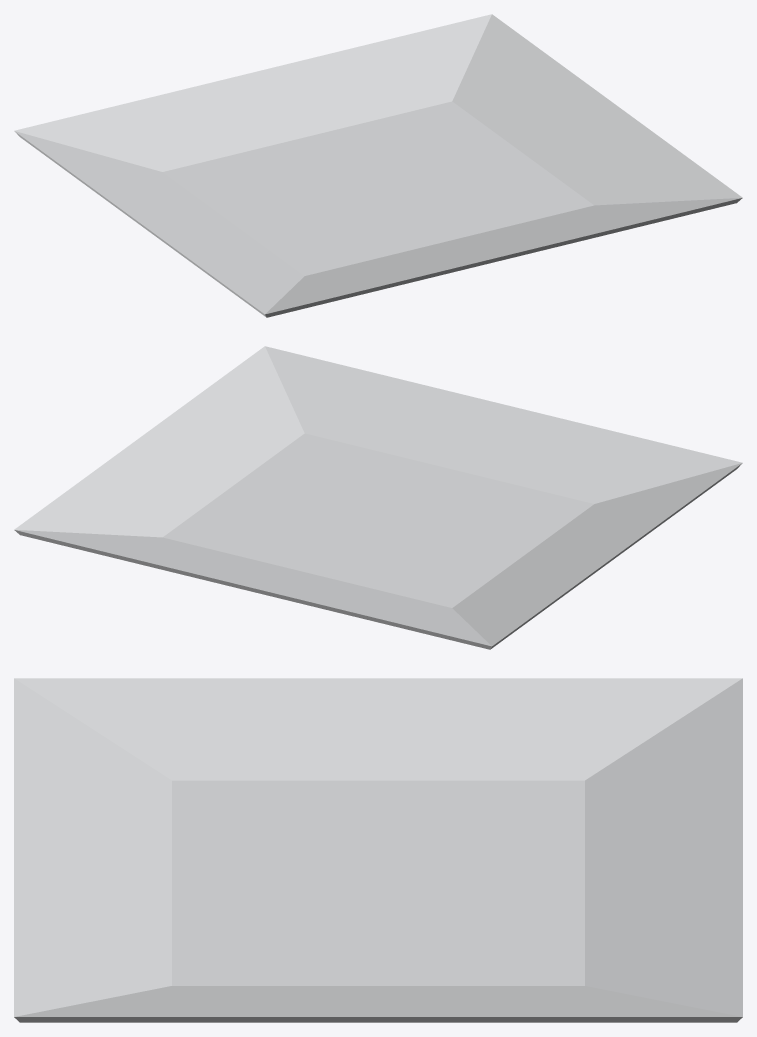
File: plate_square_003.glb
3 renders of one model, top to bottom at view 1: azimuth 30°, elevation 25°; view 2: azimuth 150°, elevation 25°; view 3: azimuth 270°, elevation 25°, orthographic. The views are drawn at different scales.
Parts seen in each view (by area): view 1: plate square.003; view 2: plate square.003; view 3: plate square.003.
Part boxes in pixels (x1,y1,x2,y2): plate square.003: [14, 14, 742, 317]; plate square.003: [14, 346, 742, 649]; plate square.003: [14, 678, 742, 1022].
Bounding box in the file's own units: 3.3 × 0.225 × 3.
Materials: 1 (1 with a texture image).
